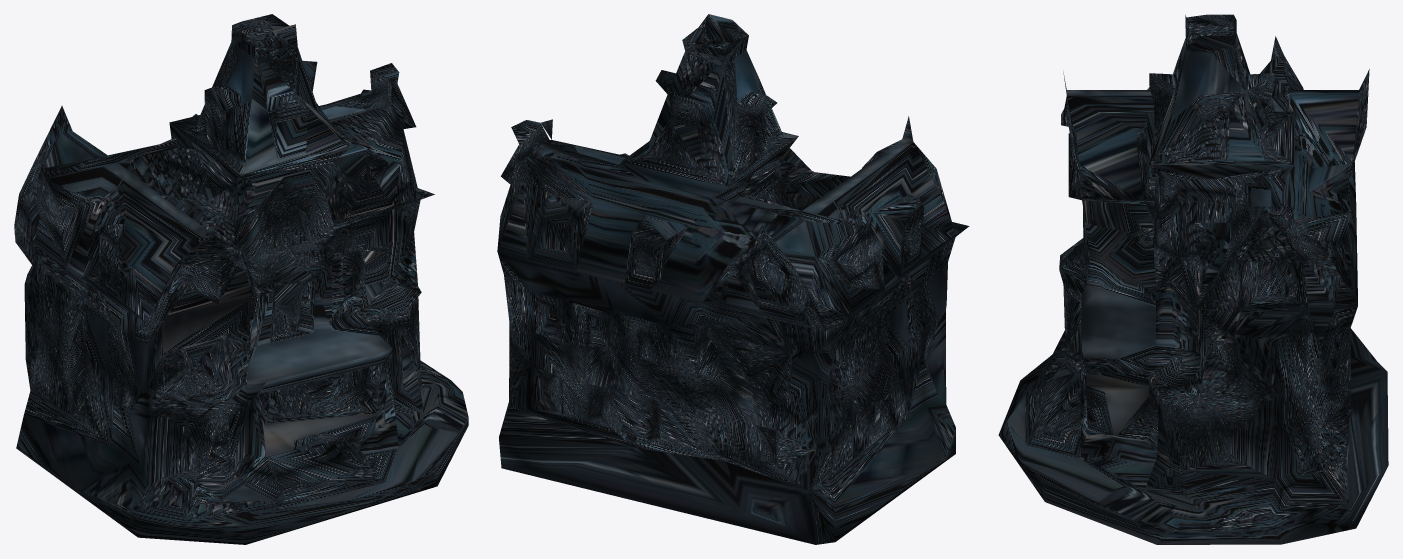
The model's file is haunted-mansion.lod.glb.
3 views of the same model, side by side, from view 1: azimuth 30°, elevation 25°; view 2: azimuth 150°, elevation 25°; view 3: azimuth 270°, elevation 25° (orthographic). The views are drawn at different scales.
Parts seen in each view (by area): view 1: tripo_node_3476503c-bb7b-47ee-b1ab-a869dc25e2b0; view 2: tripo_node_3476503c-bb7b-47ee-b1ab-a869dc25e2b0; view 3: tripo_node_3476503c-bb7b-47ee-b1ab-a869dc25e2b0.
Boxes of the visible parts, left/top/right/bottom form: tripo_node_3476503c-bb7b-47ee-b1ab-a869dc25e2b0: left=14, top=14, right=468, bottom=544; tripo_node_3476503c-bb7b-47ee-b1ab-a869dc25e2b0: left=497, top=14, right=969, bottom=544; tripo_node_3476503c-bb7b-47ee-b1ab-a869dc25e2b0: left=998, top=14, right=1388, bottom=544.
Bounding box in the file's own units: 0.9513 × 0.9781 × 0.7867.
Materials: 1 (1 with a texture image).
